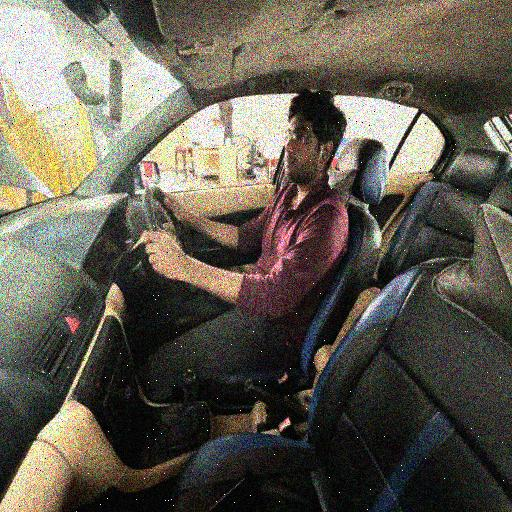Reaching_behind: (136, 89, 345, 362)
